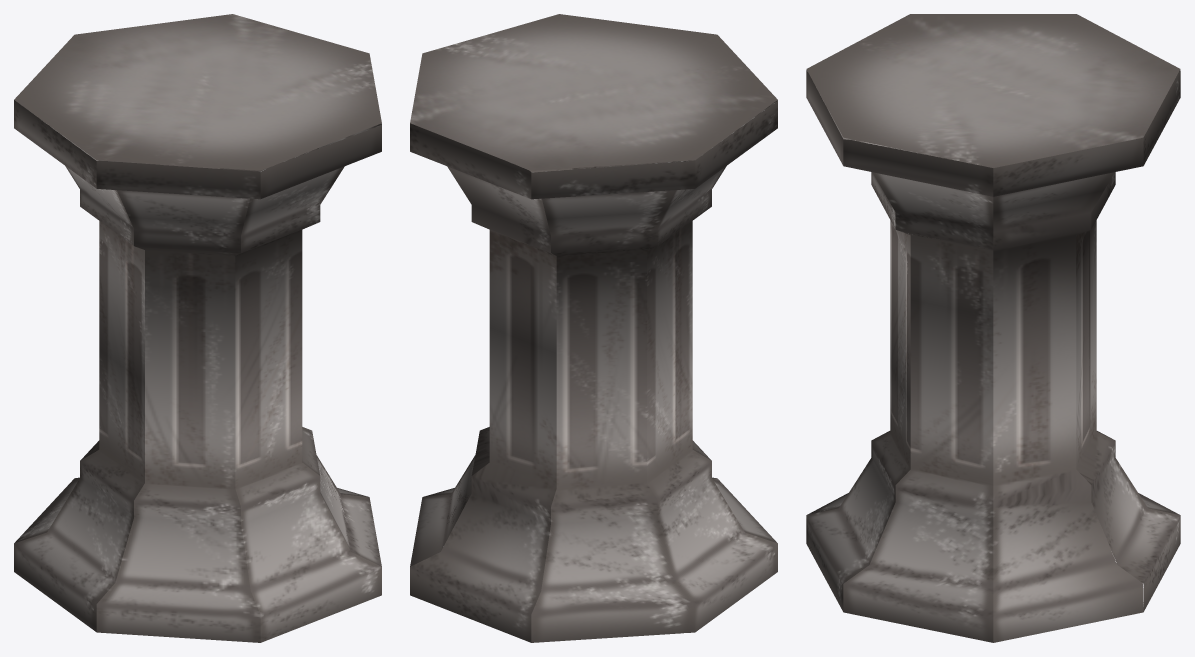
File: pillar.FBX
3 renders of one model, left to right at view 1: azimuth 30°, elevation 25°; view 2: azimuth 150°, elevation 25°; view 3: azimuth 270°, elevation 25°, orthographic.
Parts seen in each view (by area): view 1: Cylinder002; view 2: Cylinder002; view 3: Cylinder002.
Part boxes in pixels (x1=…): Cylinder002: x1=14, y1=14, x2=381, y2=642; Cylinder002: x1=410, y1=14, x2=777, y2=642; Cylinder002: x1=806, y1=14, x2=1180, y2=642.
Bounding box in the file's own units: 1.33 × 1.92 × 1.37.
